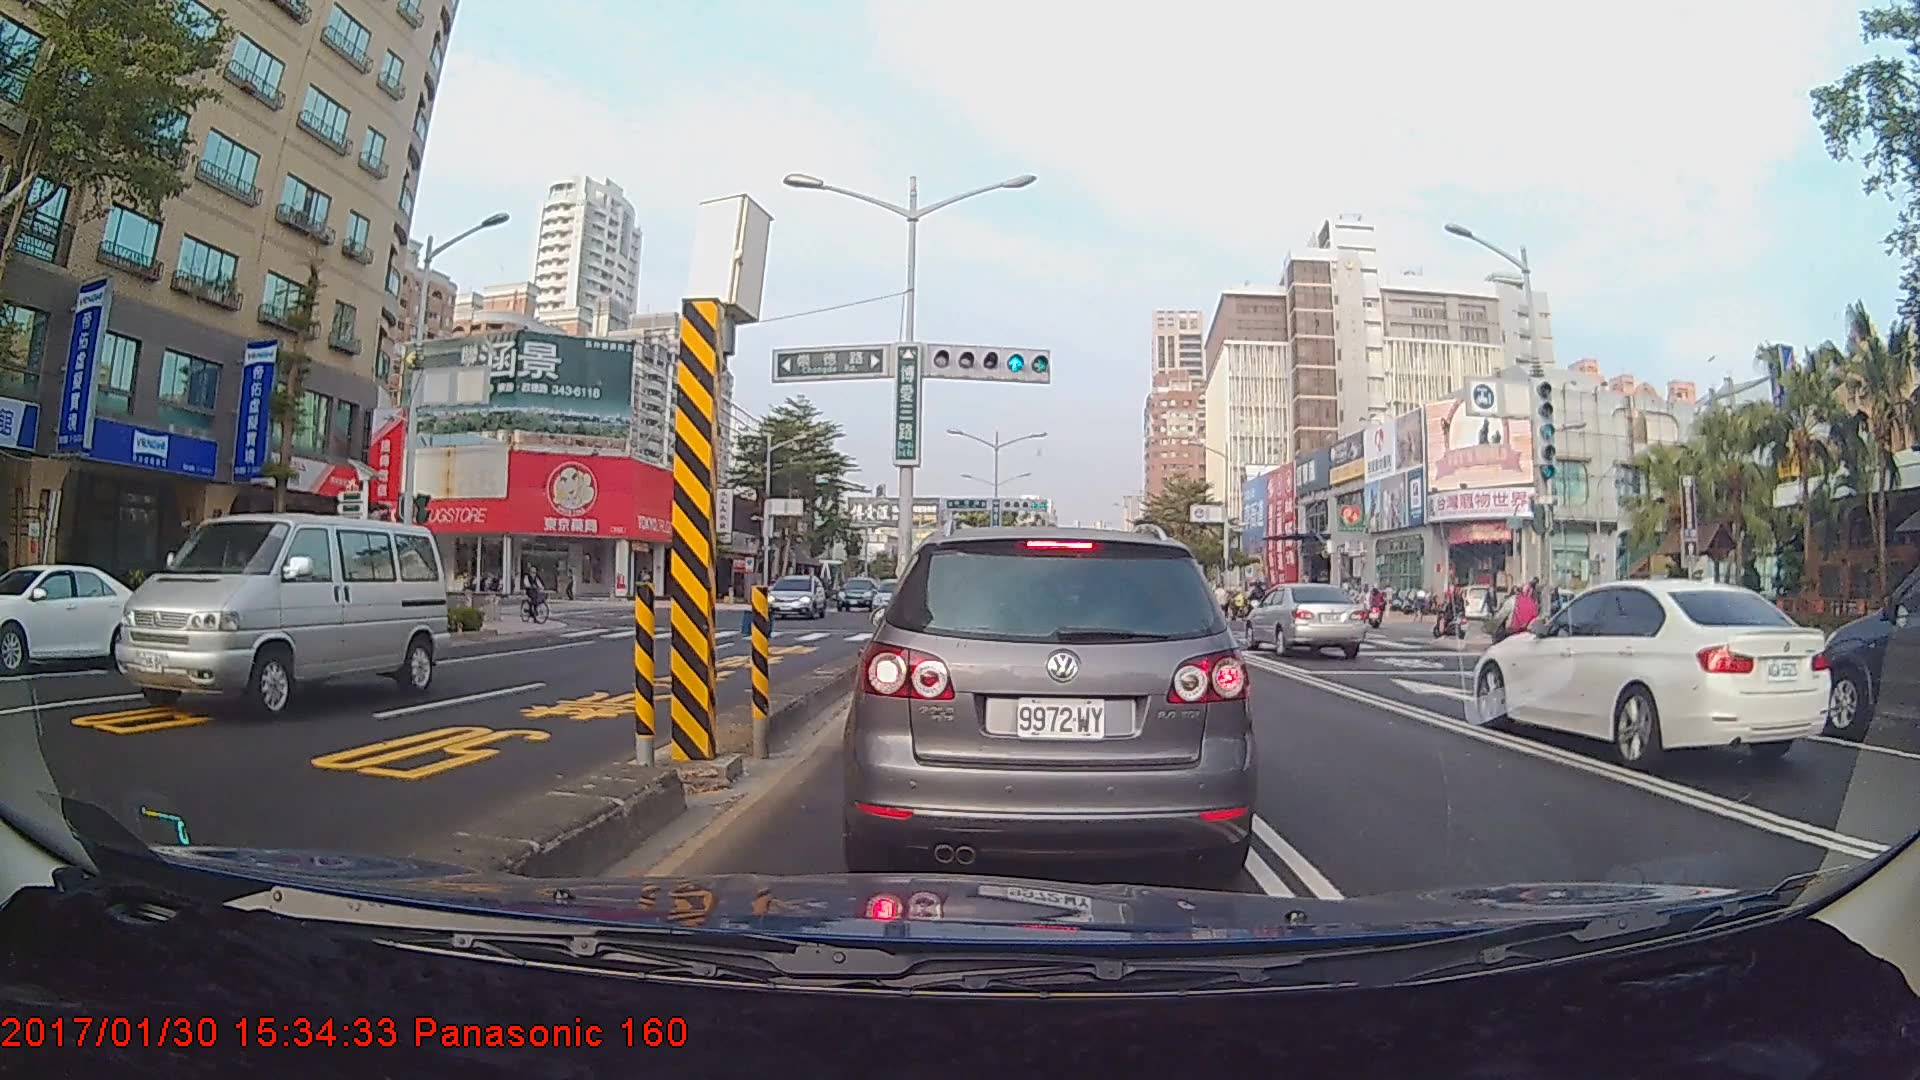rider: (1485, 582, 1548, 668), (518, 559, 561, 629), (1436, 582, 1473, 646)
vehicle: (856, 519, 1248, 876), (1468, 576, 1829, 770), (113, 511, 448, 720), (1806, 552, 1919, 741), (0, 561, 157, 671), (1243, 580, 1367, 660), (762, 574, 826, 619)
